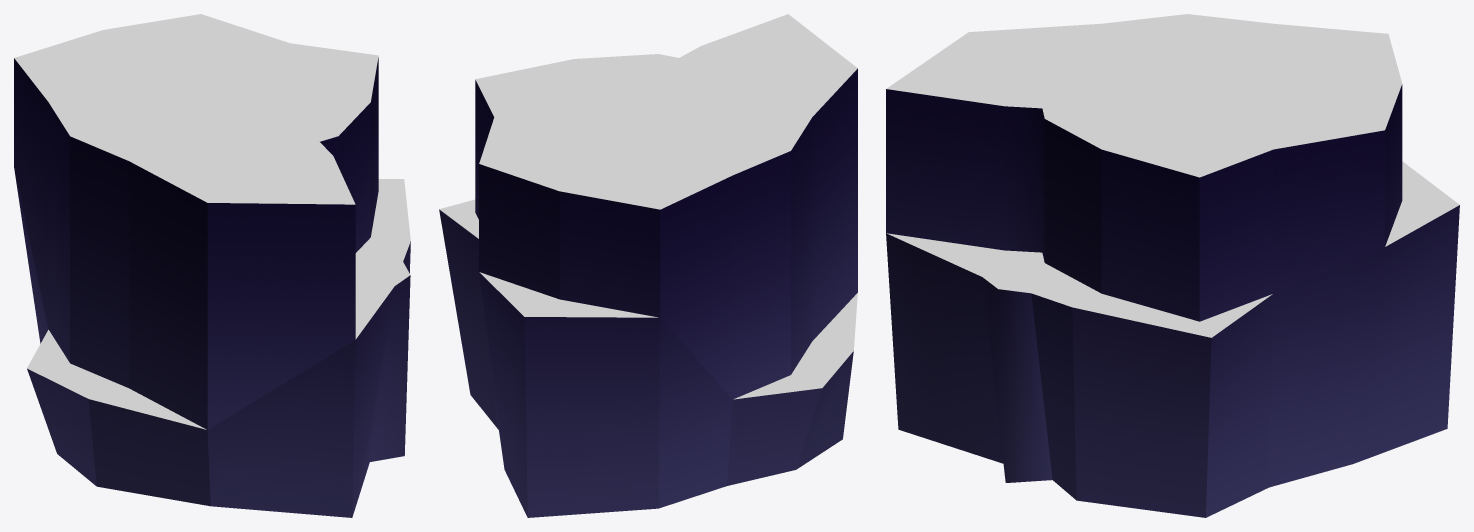
File: MOD_Island1.fbx
3 renders of one model, left to right at view 1: azimuth 30°, elevation 25°; view 2: azimuth 150°, elevation 25°; view 3: azimuth 270°, elevation 25°, orthographic. The views are drawn at different scales.
Visible parts, largest first — view 1: MOD_Island1; view 2: MOD_Island1; view 3: MOD_Island1.
Boxes of the visible parts, left/top/right/bottom form: MOD_Island1: left=14, top=14, right=410, bottom=517; MOD_Island1: left=439, top=14, right=857, bottom=517; MOD_Island1: left=886, top=14, right=1459, bottom=517.
Bounding box in the file's own units: 2.74 × 2.18 × 3.34.
Materials: 2 (1 with a texture image).
